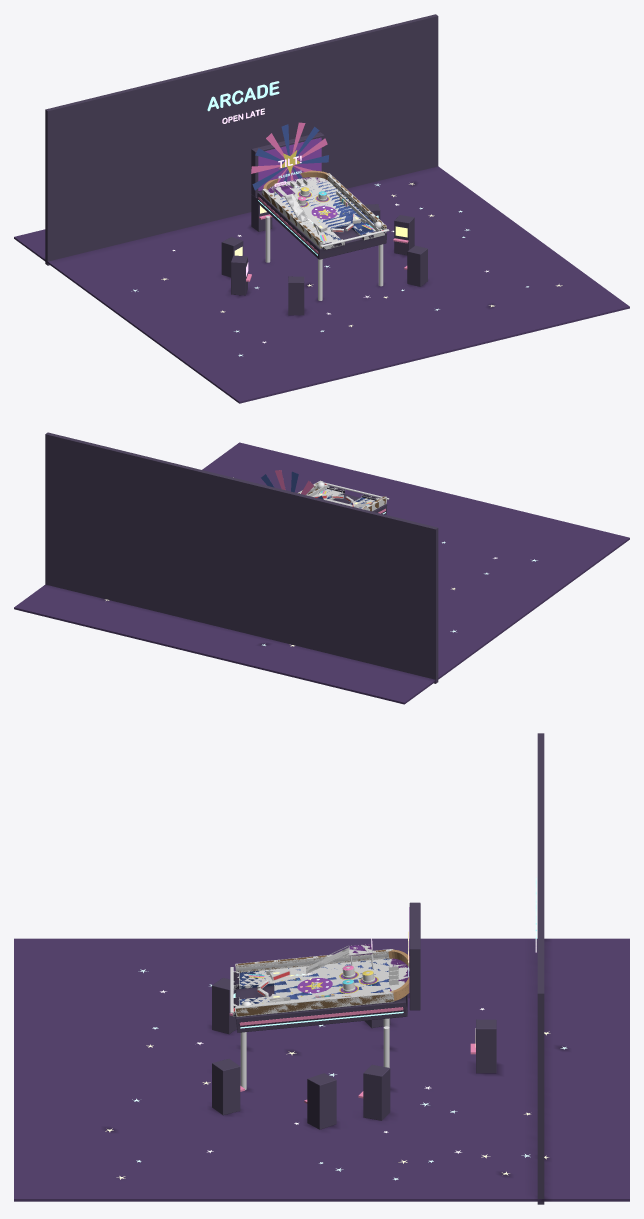
File: tilt.glb
3 views of the same model, one above another, from view 1: azimuth 30°, elevation 25°; view 2: azimuth 150°, elevation 25°; view 3: azimuth 270°, elevation 25° (orthographic). The views are drawn at different scales.
Parts seen in each view (by area): view 1: floor, wall, cab_body, col_box_playfield, backglass, m_body.005, playfield, m_body.004, backbox, m_body.001, m_body.003, neon_wall (+1 smaller); view 2: wall, floor; view 3: floor, wall, cab_body, col_box_playfield, m_body.003, m_body.005, m_body.002, col_box_rail, backbox, m_body.006, rail, m_body.004 (+2 smaller).
Boxes of the visible parts, x1,y1,x2,y2 form: floor: (14, 166, 629, 403); wall: (45, 14, 438, 265); cab_body: (257, 191, 387, 259); col_box_playfield: (271, 180, 365, 232); backglass: (258, 137, 321, 190); m_body.005: (407, 245, 427, 286); playfield: (275, 181, 368, 229); m_body.004: (288, 276, 304, 315); backbox: (251, 132, 324, 196); m_body.001: (231, 255, 247, 295); m_body.003: (394, 215, 414, 255); neon_wall: (207, 81, 279, 111); wall: (45, 432, 438, 683); floor: (14, 442, 629, 704); floor: (14, 938, 629, 1201); wall: (537, 733, 544, 1204); cab_body: (235, 985, 407, 1032); col_box_playfield: (274, 958, 389, 1000); m_body.003: (307, 1073, 336, 1129); m_body.005: (212, 1058, 240, 1115); m_body.002: (363, 1065, 390, 1120); col_box_rail: (235, 991, 394, 1016); backbox: (409, 902, 420, 1010); m_body.006: (476, 1019, 496, 1073); rail: (236, 992, 394, 1016); m_body.004: (212, 977, 236, 1034).
Bounding box in the file's own units: 90 × 34 × 90.
